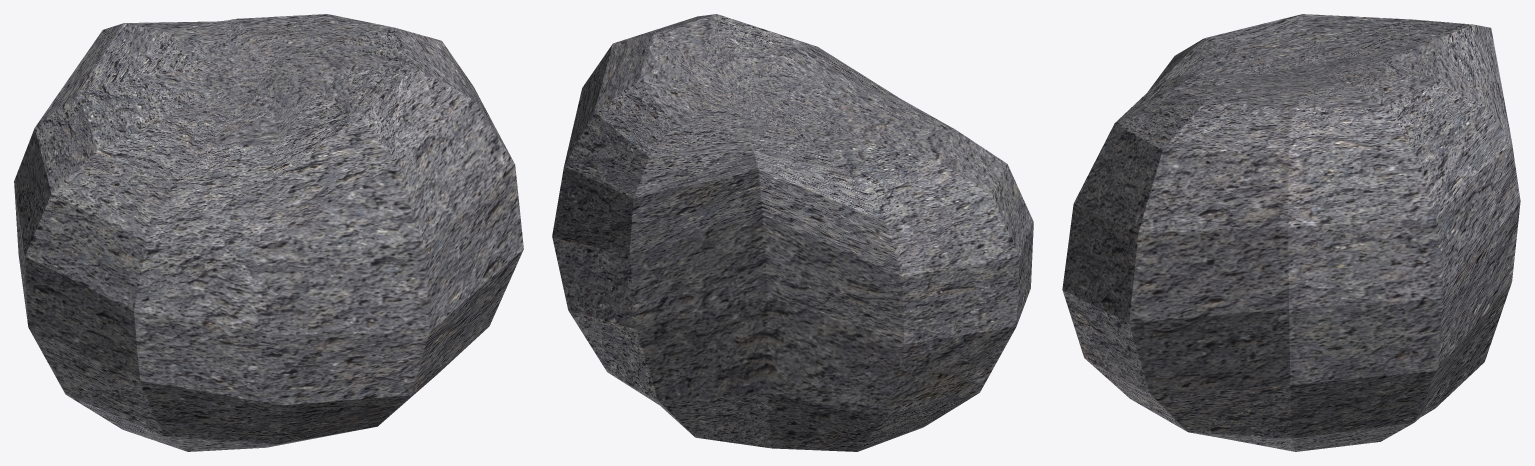
Rendered from rock.obj.
3 views of the same model, side by side, from view 1: azimuth 30°, elevation 25°; view 2: azimuth 150°, elevation 25°; view 3: azimuth 270°, elevation 25° (orthographic). The views are drawn at different scales.
Visible parts, largest first — view 1: pSphere1; view 2: pSphere1; view 3: pSphere1.
Part boxes in pixels (box(x1,y1,x2,y2)): pSphere1: box(14, 14, 523, 451); pSphere1: box(552, 14, 1033, 451); pSphere1: box(1062, 14, 1520, 451).
Size of the model in its own units: 2.15 by 1.6 by 1.77.
1 material, 1 textured.
